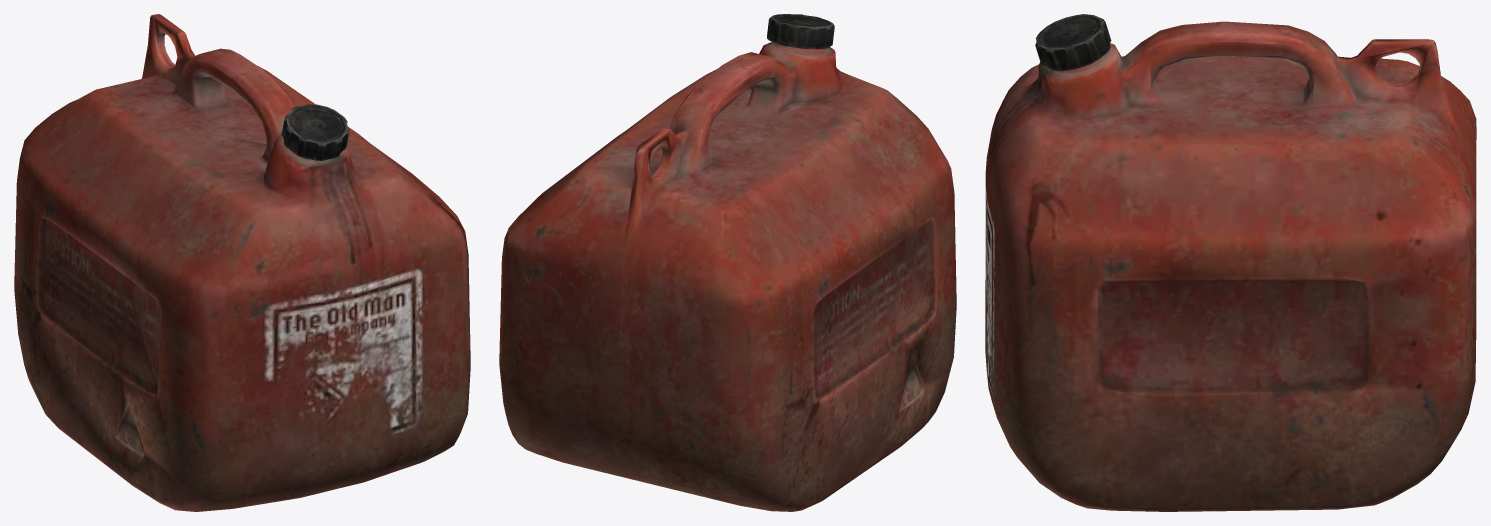
Rendered from plastic_jerrycan.glb.
The picture shows the model from 3 angles, left to right: view 1: azimuth 30°, elevation 25°; view 2: azimuth 150°, elevation 25°; view 3: azimuth 270°, elevation 25°; orthographic projection. The views are drawn at different scales.
Visible parts, largest first — view 1: plastic_jerrycan; view 2: plastic_jerrycan; view 3: plastic_jerrycan.
Boxes of the visible parts, x1=… form: plastic_jerrycan: x1=14, y1=14, x2=470, y2=511; plastic_jerrycan: x1=499, y1=14, x2=956, y2=511; plastic_jerrycan: x1=985, y1=14, x2=1476, y2=511.
Bounding box in the file's own units: 0.268 × 0.3181 × 0.3399.
Materials: 1 (1 with a texture image).
